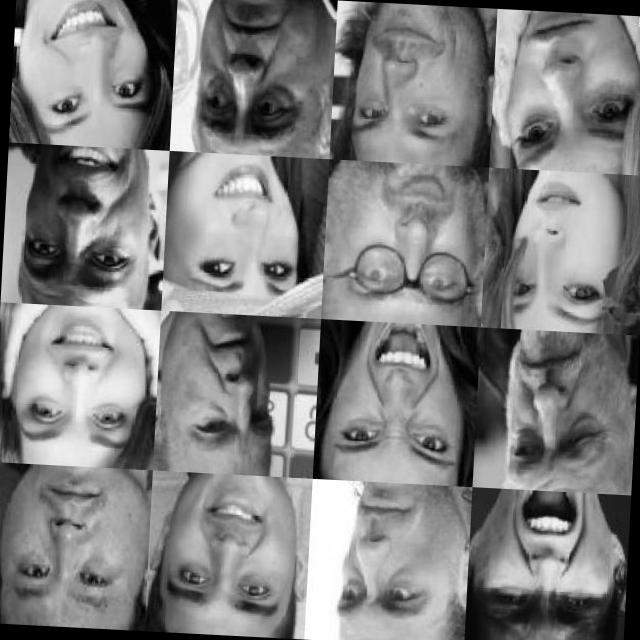angry: (329, 492, 452, 627), (339, 338, 465, 460), (492, 506, 614, 631)
happy: (14, 0, 163, 141), (176, 152, 308, 306), (13, 311, 149, 455), (350, 13, 476, 152), (157, 496, 290, 622)
neutral: (494, 172, 622, 326), (0, 464, 135, 610), (505, 344, 628, 484), (180, 321, 290, 463)
sad: (5, 144, 160, 304), (503, 12, 640, 162), (336, 170, 481, 305), (194, 2, 326, 140)
